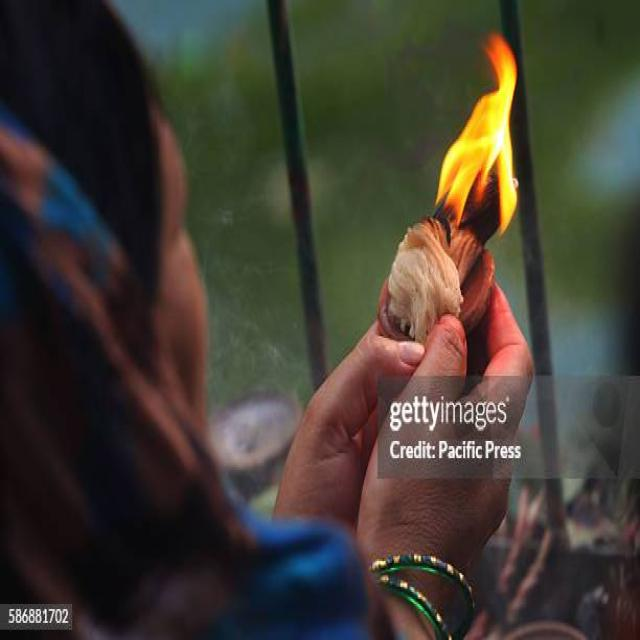fire: (435, 32, 517, 236)
